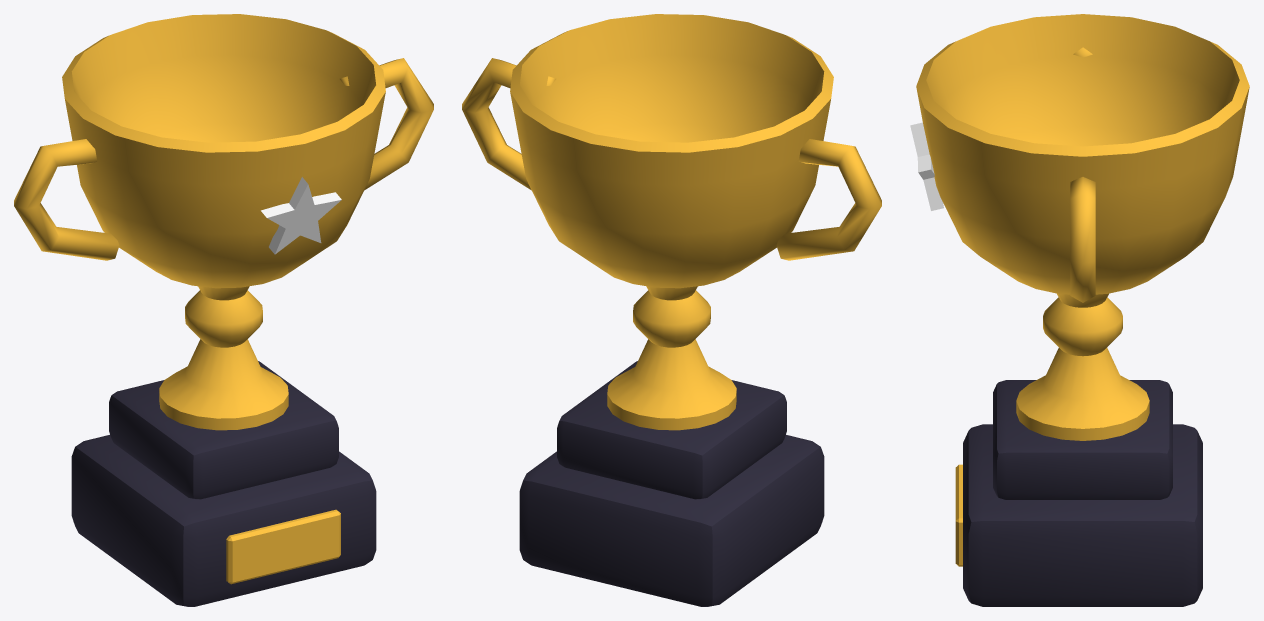
The model's file is trophy.glb.
3 renders of one model, left to right at view 1: azimuth 30°, elevation 25°; view 2: azimuth 150°, elevation 25°; view 3: azimuth 270°, elevation 25°, orthographic. The views are drawn at different scales.
Parts seen in each view (by area): view 1: trophy; view 2: trophy; view 3: trophy.
Boxes of the visible parts, x1,y1,x2,y2 form: trophy: (14,14,433,606); trophy: (462,14,881,606); trophy: (910,14,1249,606).
Size of the model in its own units: 0.744 by 0.8 by 0.509.
